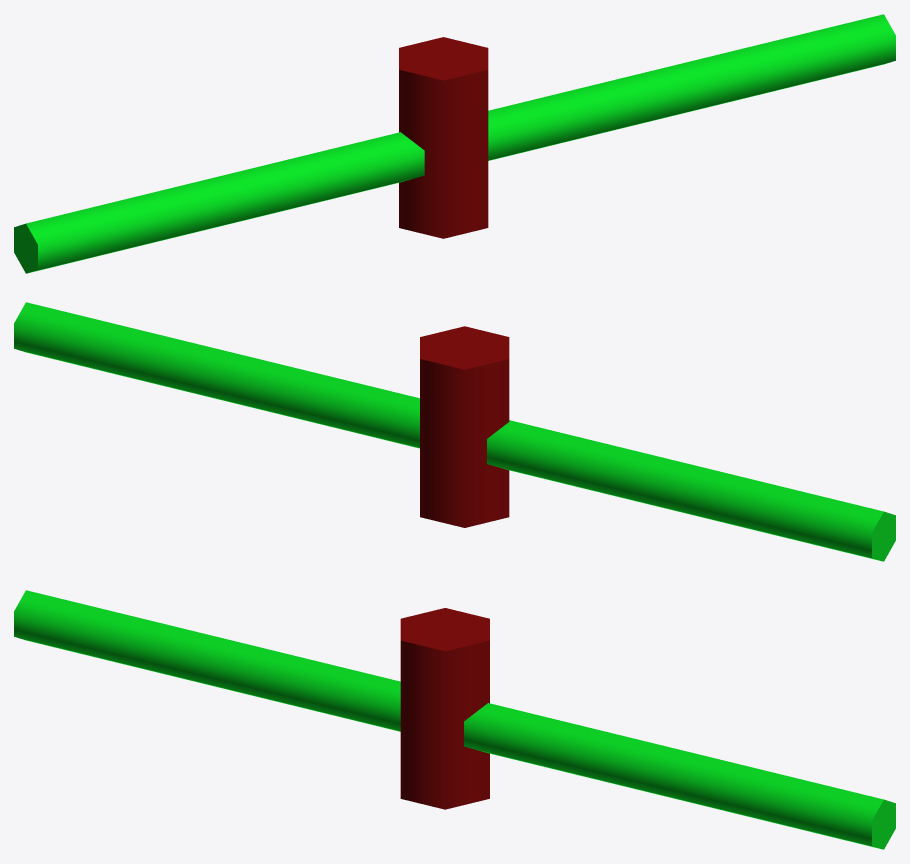
File: Einfache_Propeller.fbx
The picture shows the model from 3 angles, top to bottom: view 1: azimuth 30°, elevation 25°; view 2: azimuth 150°, elevation 25°; view 3: azimuth 330°, elevation 25°; orthographic projection.
Visible parts, largest first — view 1: Propeller, Mittelteil; view 2: Propeller, Mittelteil; view 3: Propeller, Mittelteil.
Boxes of the visible parts, bbox=[...] form: Propeller: bbox=[14, 14, 895, 273]; Mittelteil: bbox=[399, 37, 488, 238]; Propeller: bbox=[14, 302, 895, 561]; Mittelteil: bbox=[420, 326, 509, 527]; Propeller: bbox=[14, 590, 895, 849]; Mittelteil: bbox=[400, 608, 489, 809].
Size of the model in its own units: 250 by 44.08 by 22.52.
